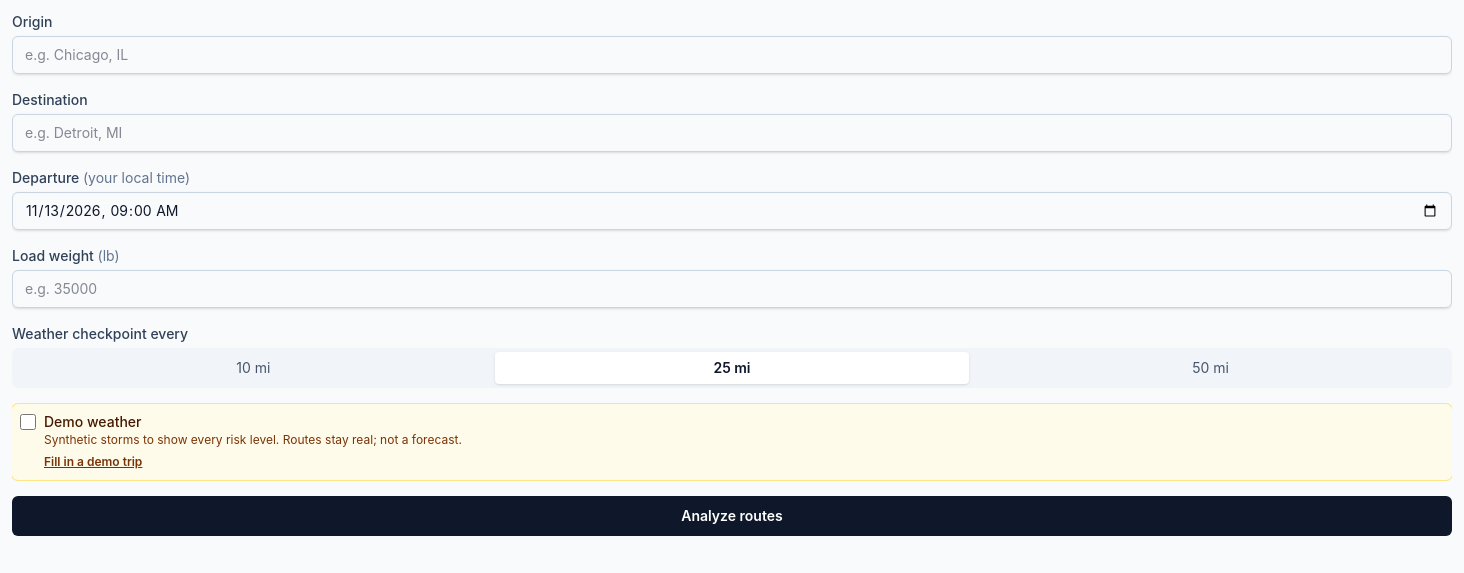
Test: TripForm › keeps working when suggestions are unavailable
Step 1. Type "Chicago" into the dropdown labelled "Origin" → {"x": 732, "y": 55}, box [12, 36, 1452, 74]
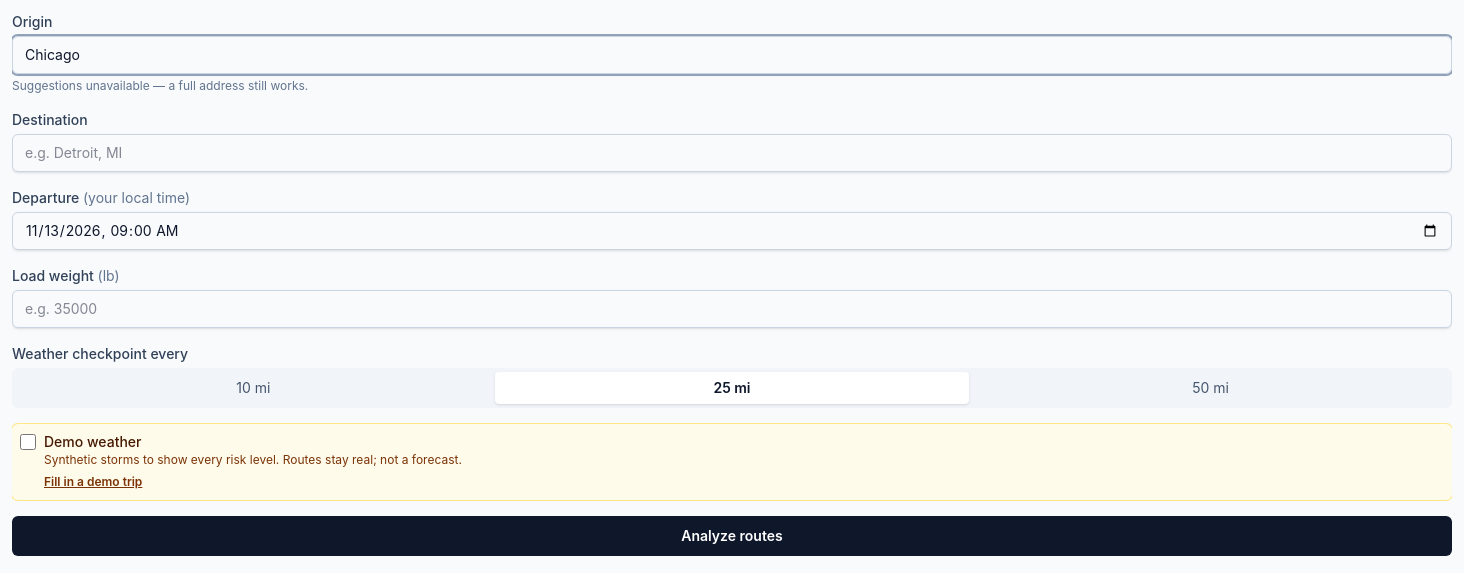
Check: the text "Suggestions unavailable — a full address still works." is shown, box [12, 78, 308, 93]
